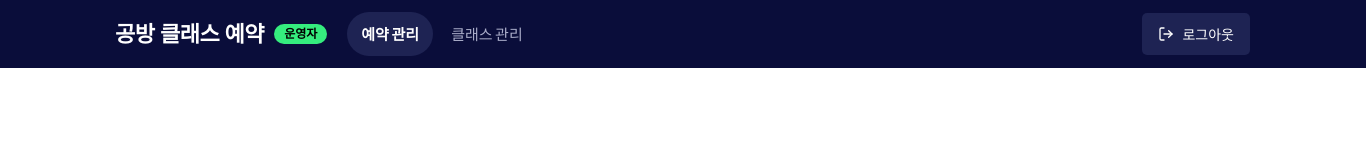
Test: AdminHeader › 로그아웃 요청 중 버튼을 비활성화한다
Click the button "로그아웃" at (1196, 34), box [1142,12,1251,56]
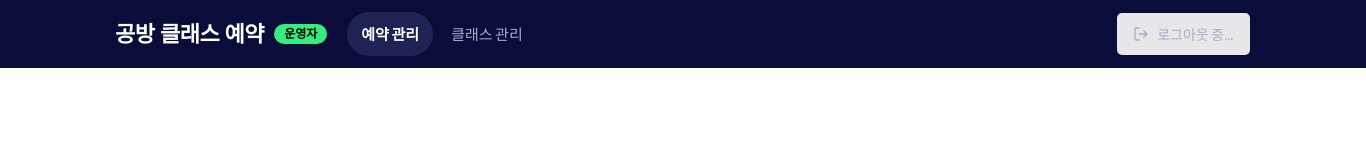
Expected: the button "로그아웃 중…" is disabled, [1116,12,1251,56]
